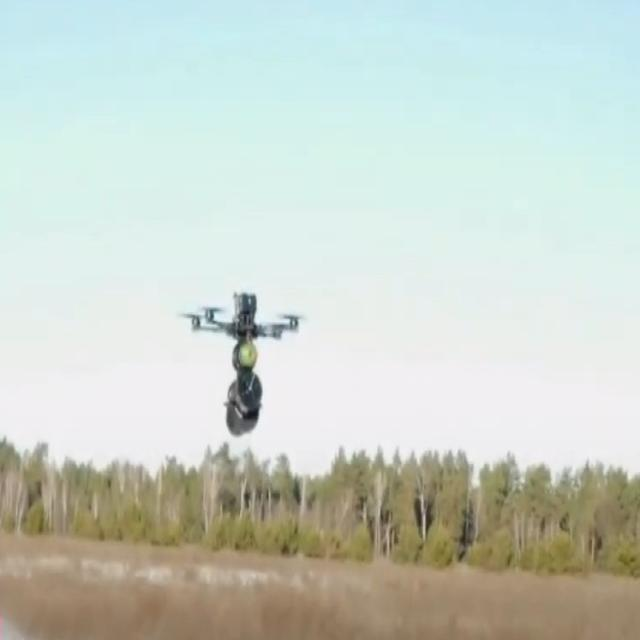drone: (177, 290, 311, 437)
